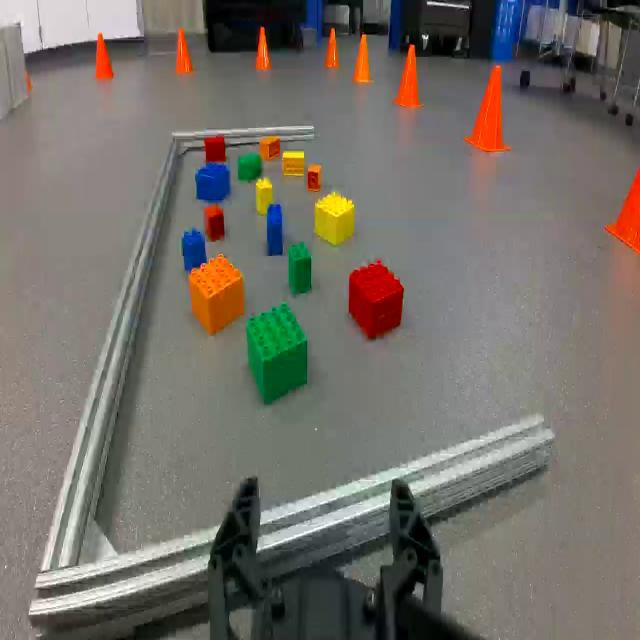block: (313, 192, 354, 250), (256, 178, 273, 214), (285, 150, 304, 178)
blue: (194, 161, 229, 201), (182, 226, 208, 269), (266, 201, 282, 259)
cone: (608, 136, 638, 256), (468, 63, 508, 151), (394, 44, 422, 111), (92, 30, 115, 84), (351, 32, 372, 88), (172, 29, 196, 77), (251, 27, 273, 75), (324, 28, 340, 70)
green: (246, 306, 309, 403), (286, 241, 312, 297), (236, 152, 261, 182)
metal barrier: (28, 127, 556, 640)
orange: (188, 256, 244, 333), (260, 136, 279, 158), (307, 164, 320, 190)
red goal: (346, 259, 404, 339), (203, 205, 224, 241), (206, 133, 226, 163)
storage cube: (1, 21, 30, 128)
